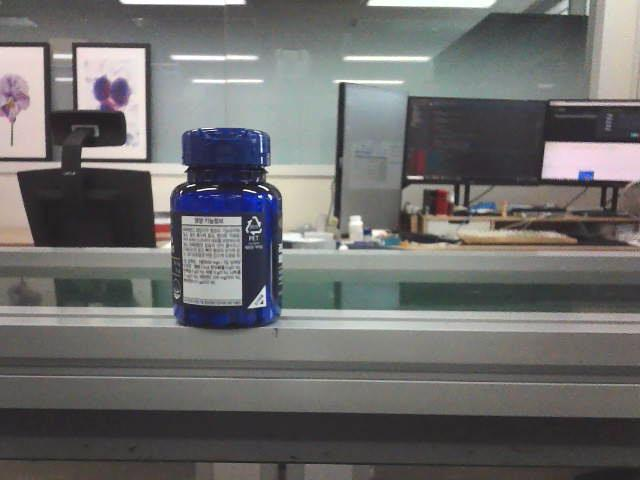labeled: (170, 119, 284, 336)
